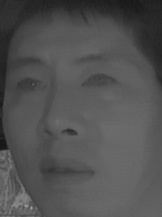eye: (79, 70, 121, 95), (15, 75, 49, 98)
mouth: (33, 151, 97, 193)
